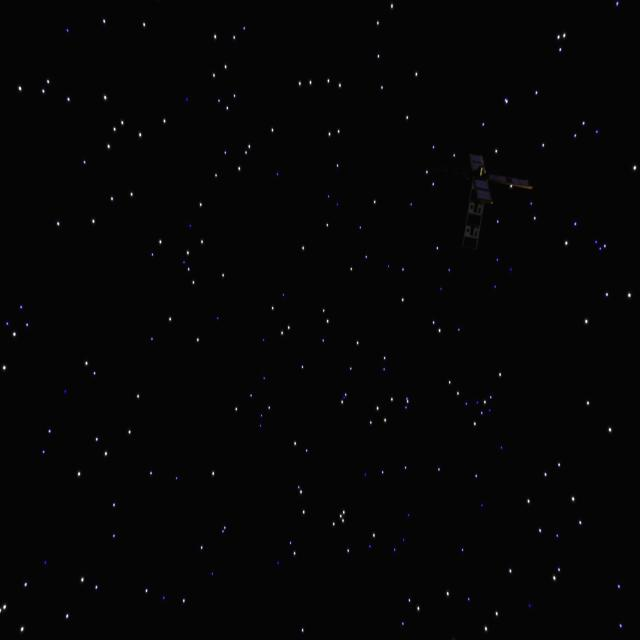satellite: (428, 150, 536, 261)
